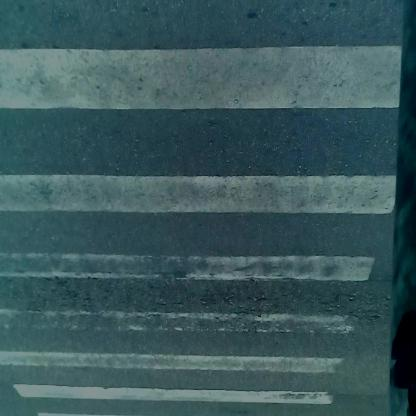crosswalk: (5, 2, 402, 410)
